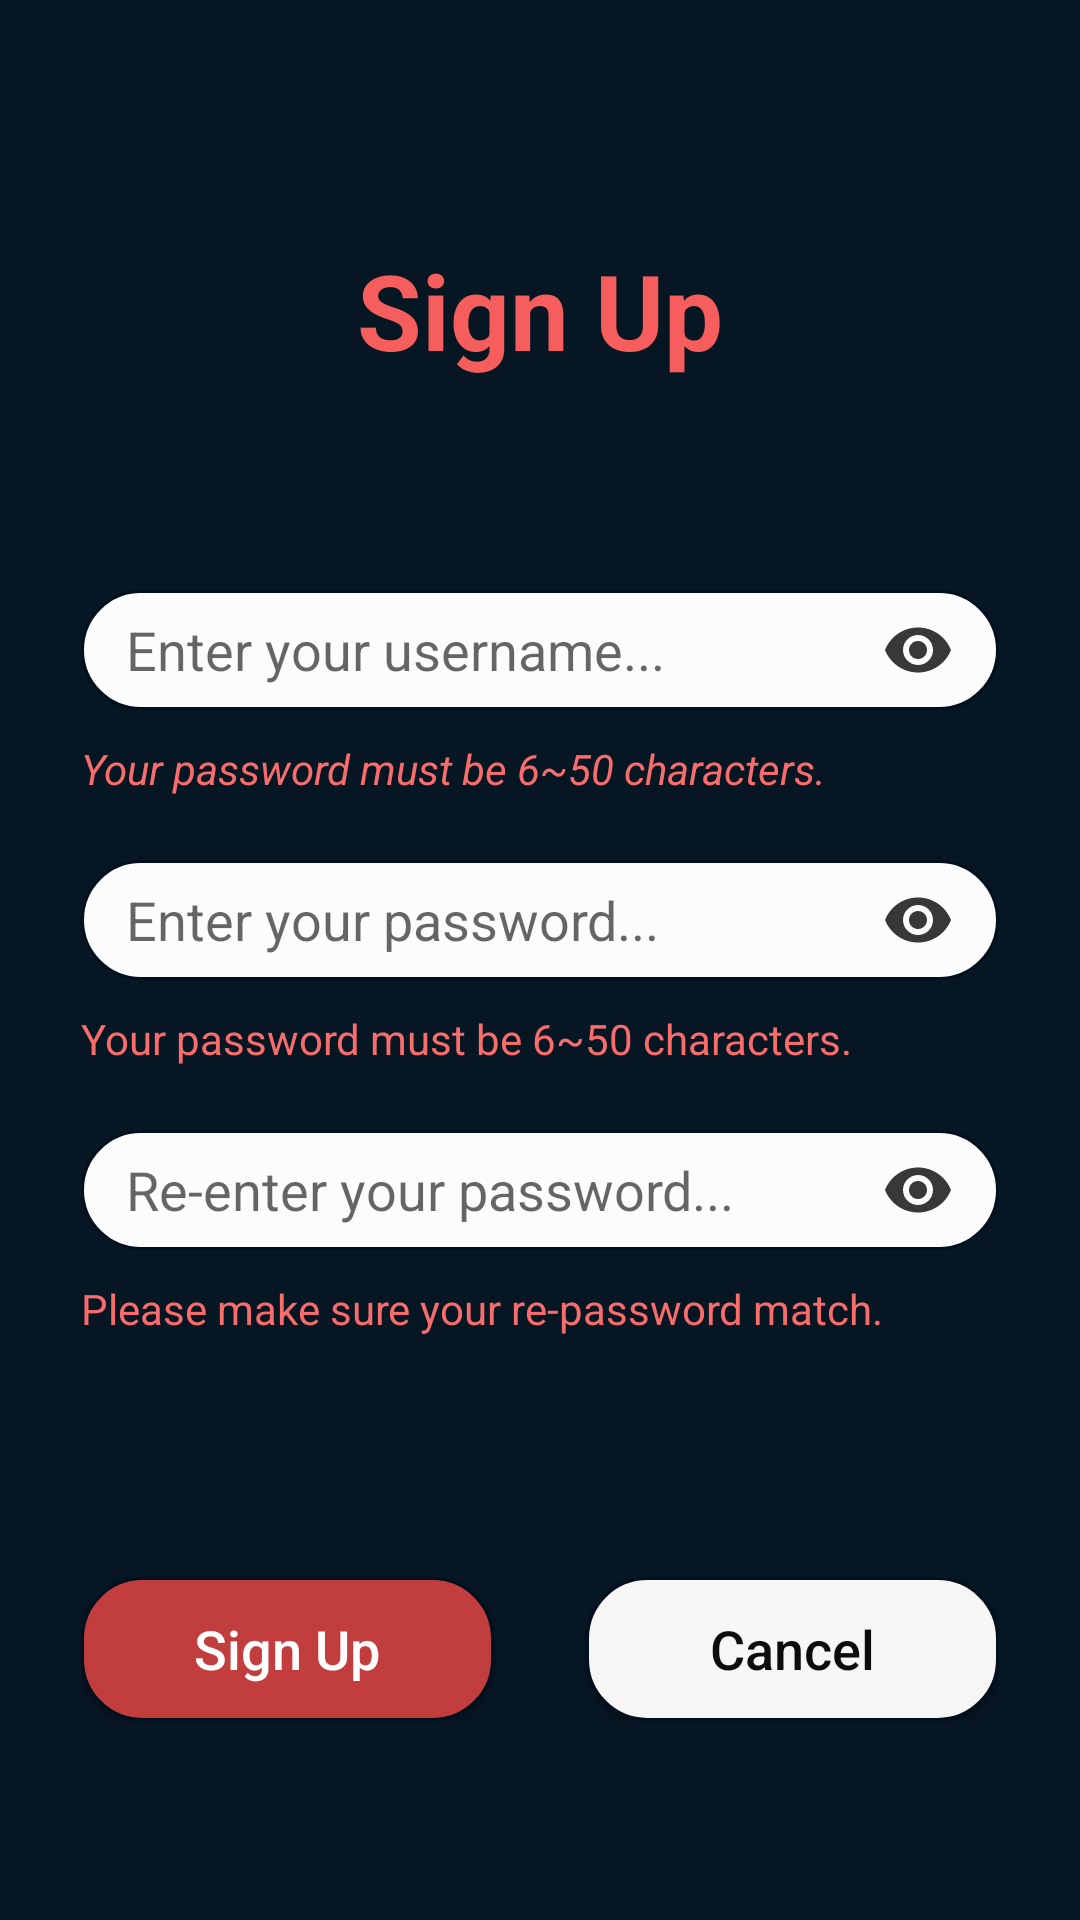

Icon click points for this 1080×1920 phone screenshot, format (x,y):
remove eye: (918,650), (918,920), (918,1190)
